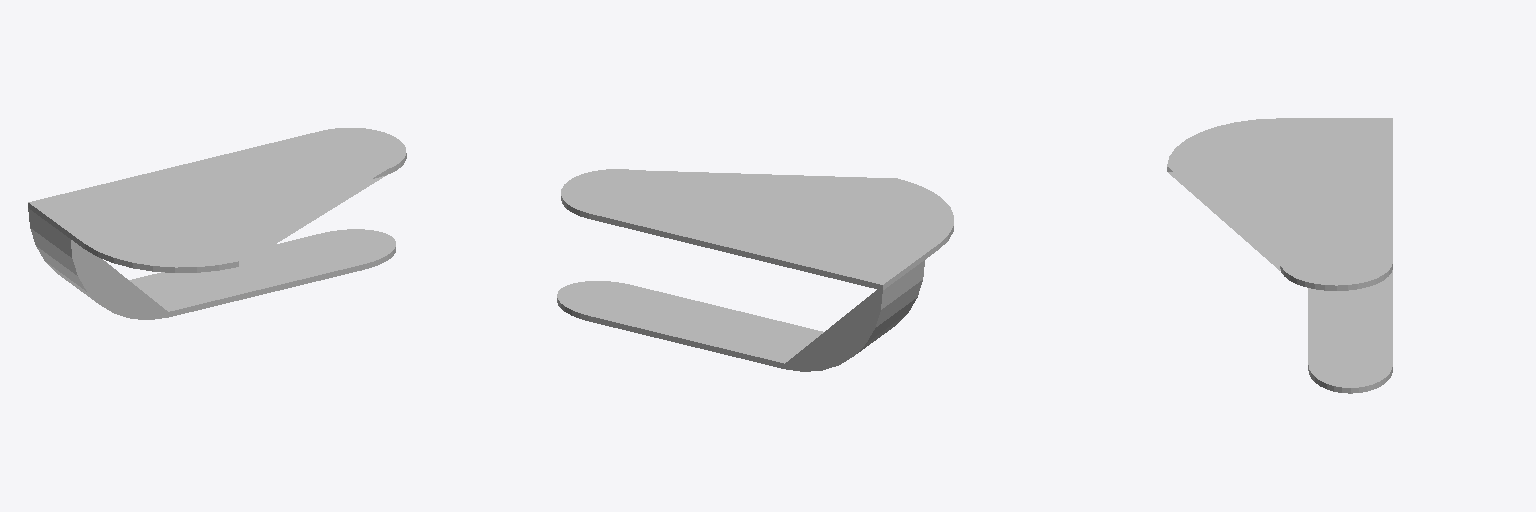
The model's file is News Desk Object.obj.
3 views of the same model, side by side, from view 1: azimuth 30°, elevation 25°; view 2: azimuth 150°, elevation 25°; view 3: azimuth 270°, elevation 25° (orthographic).
Parts seen in each view (by area): view 1: Desk_Circle.001; view 2: Desk_Circle.001; view 3: Desk_Circle.001.
Part boxes in pixels (bbox=[...]): Desk_Circle.001: bbox=[28, 128, 406, 319]; Desk_Circle.001: bbox=[557, 169, 953, 371]; Desk_Circle.001: bbox=[1167, 118, 1392, 393].
Size of the model in its own units: 7 by 2.11 by 4.